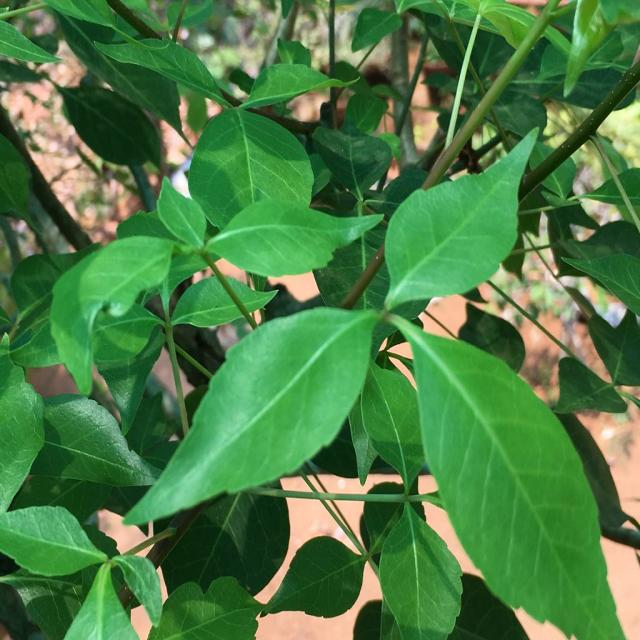Gugal: (226, 168, 615, 638), (321, 17, 622, 414), (33, 258, 290, 612), (36, 4, 323, 306)
